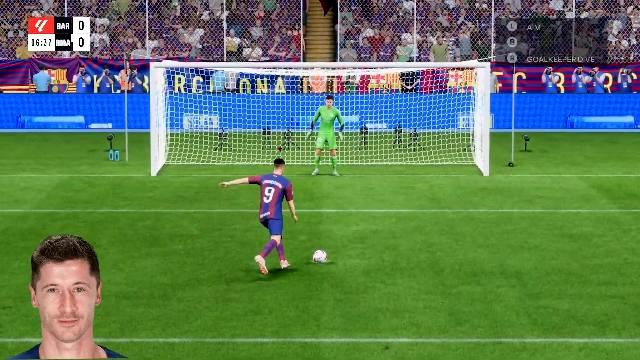bottom-left: (160, 129, 274, 175)
bottom-right: (376, 130, 482, 174)
center-down: (280, 128, 374, 176)
center-up: (276, 74, 358, 124)
football: (310, 249, 330, 263)
goalkeeper: (300, 99, 362, 177)
player: (222, 164, 304, 282)
top-left: (160, 71, 272, 127)
top-right: (363, 70, 485, 124)
